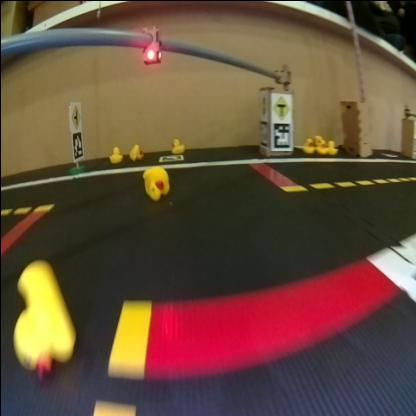Duckie: (12, 258, 74, 374), (140, 166, 168, 198), (108, 145, 121, 161), (128, 143, 141, 159), (170, 138, 182, 152), (302, 138, 312, 152), (326, 140, 336, 154), (315, 138, 323, 152)
Intersection sign: (271, 93, 289, 118), (70, 102, 80, 126)
QR code: (270, 122, 292, 149), (71, 131, 82, 158), (258, 118, 267, 146), (156, 152, 182, 160)
Traffic light: (142, 26, 158, 62)
